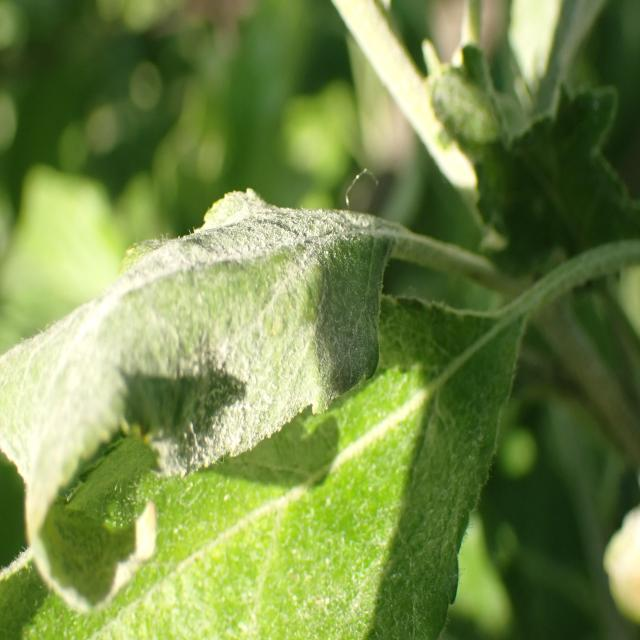Powdery_mildew: (0, 189, 456, 606), (9, 285, 536, 640)
